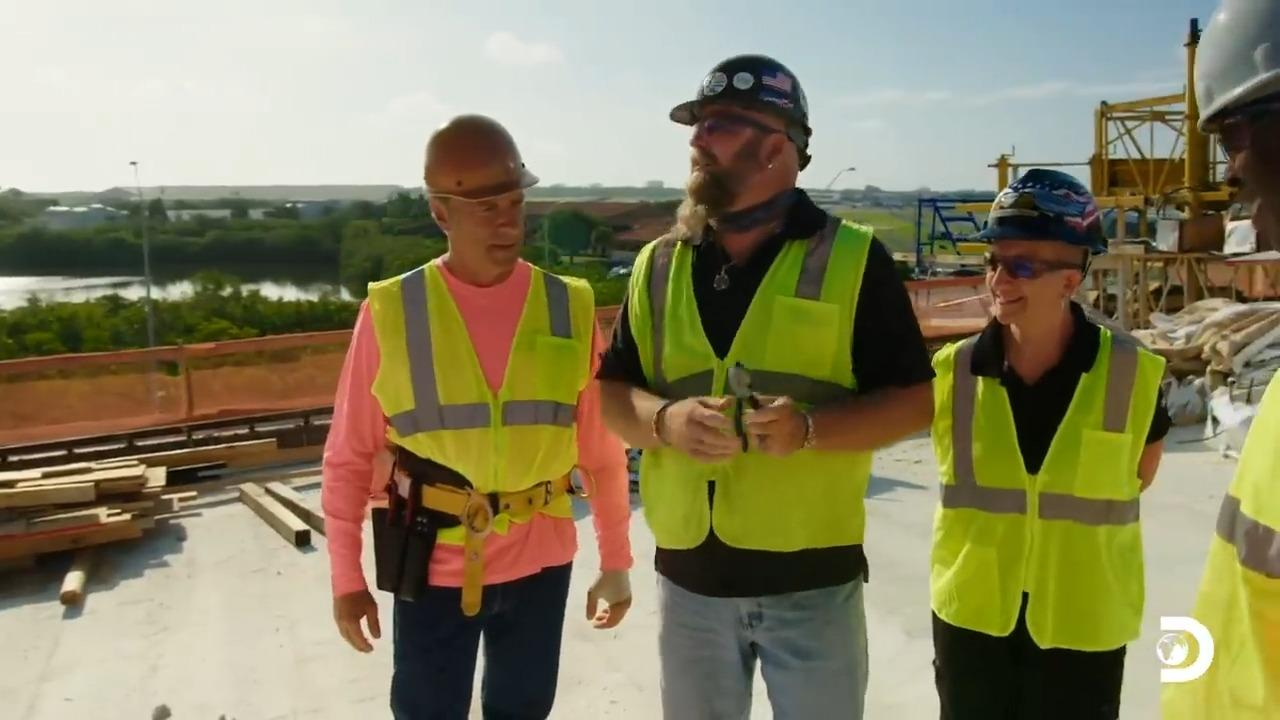Helmet: (669, 53, 812, 170), (1192, 0, 1279, 134), (975, 167, 1108, 254), (422, 113, 539, 201)
Person: (592, 53, 937, 718), (319, 112, 634, 719), (920, 159, 1173, 720), (1158, 0, 1279, 719)
Safety Vest: (647, 254, 849, 551), (377, 295, 570, 528)
bare-arms: (662, 396, 736, 470), (736, 392, 817, 458), (581, 567, 634, 632), (332, 581, 376, 653)
